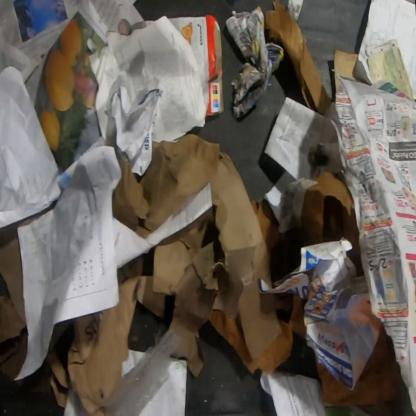cardboard: (210, 151, 282, 361), (251, 170, 365, 282), (112, 132, 221, 240), (169, 207, 224, 378), (207, 290, 307, 376), (264, 0, 334, 116), (167, 13, 225, 117), (151, 234, 196, 297), (334, 50, 359, 94)
soft_plastic: (103, 325, 183, 415)
